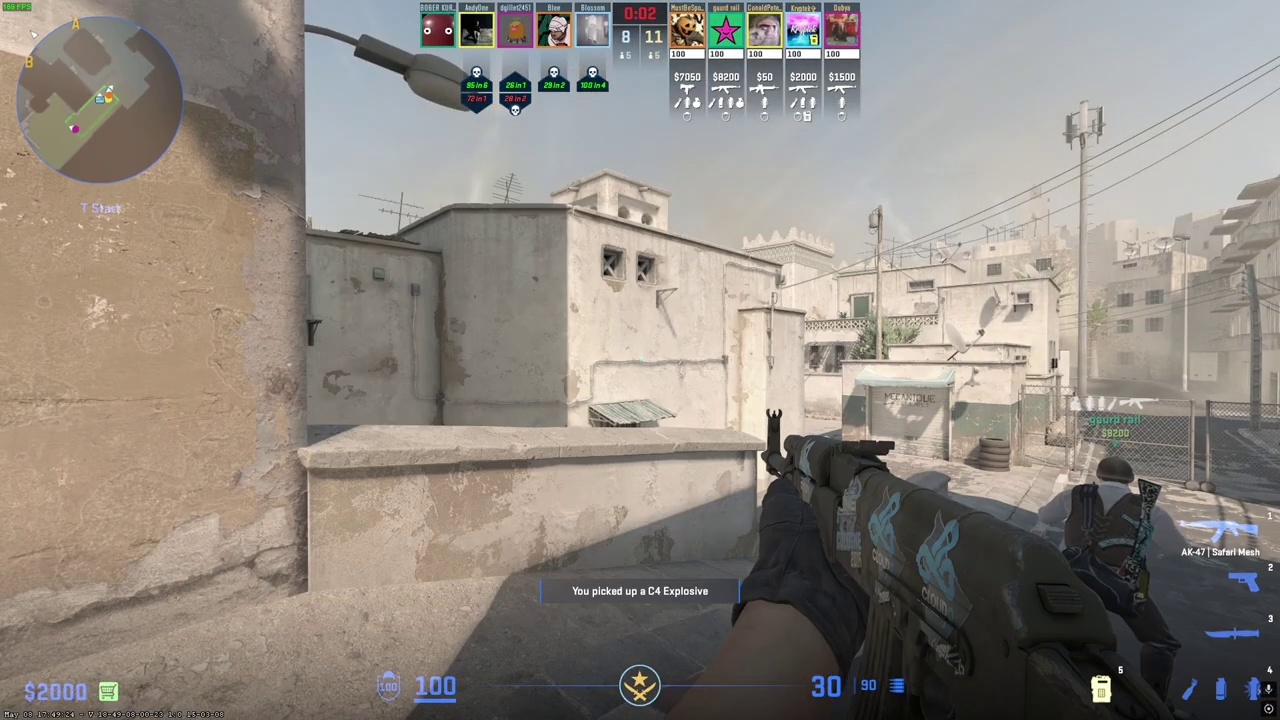Terrorist: (1060, 458, 1179, 703)
